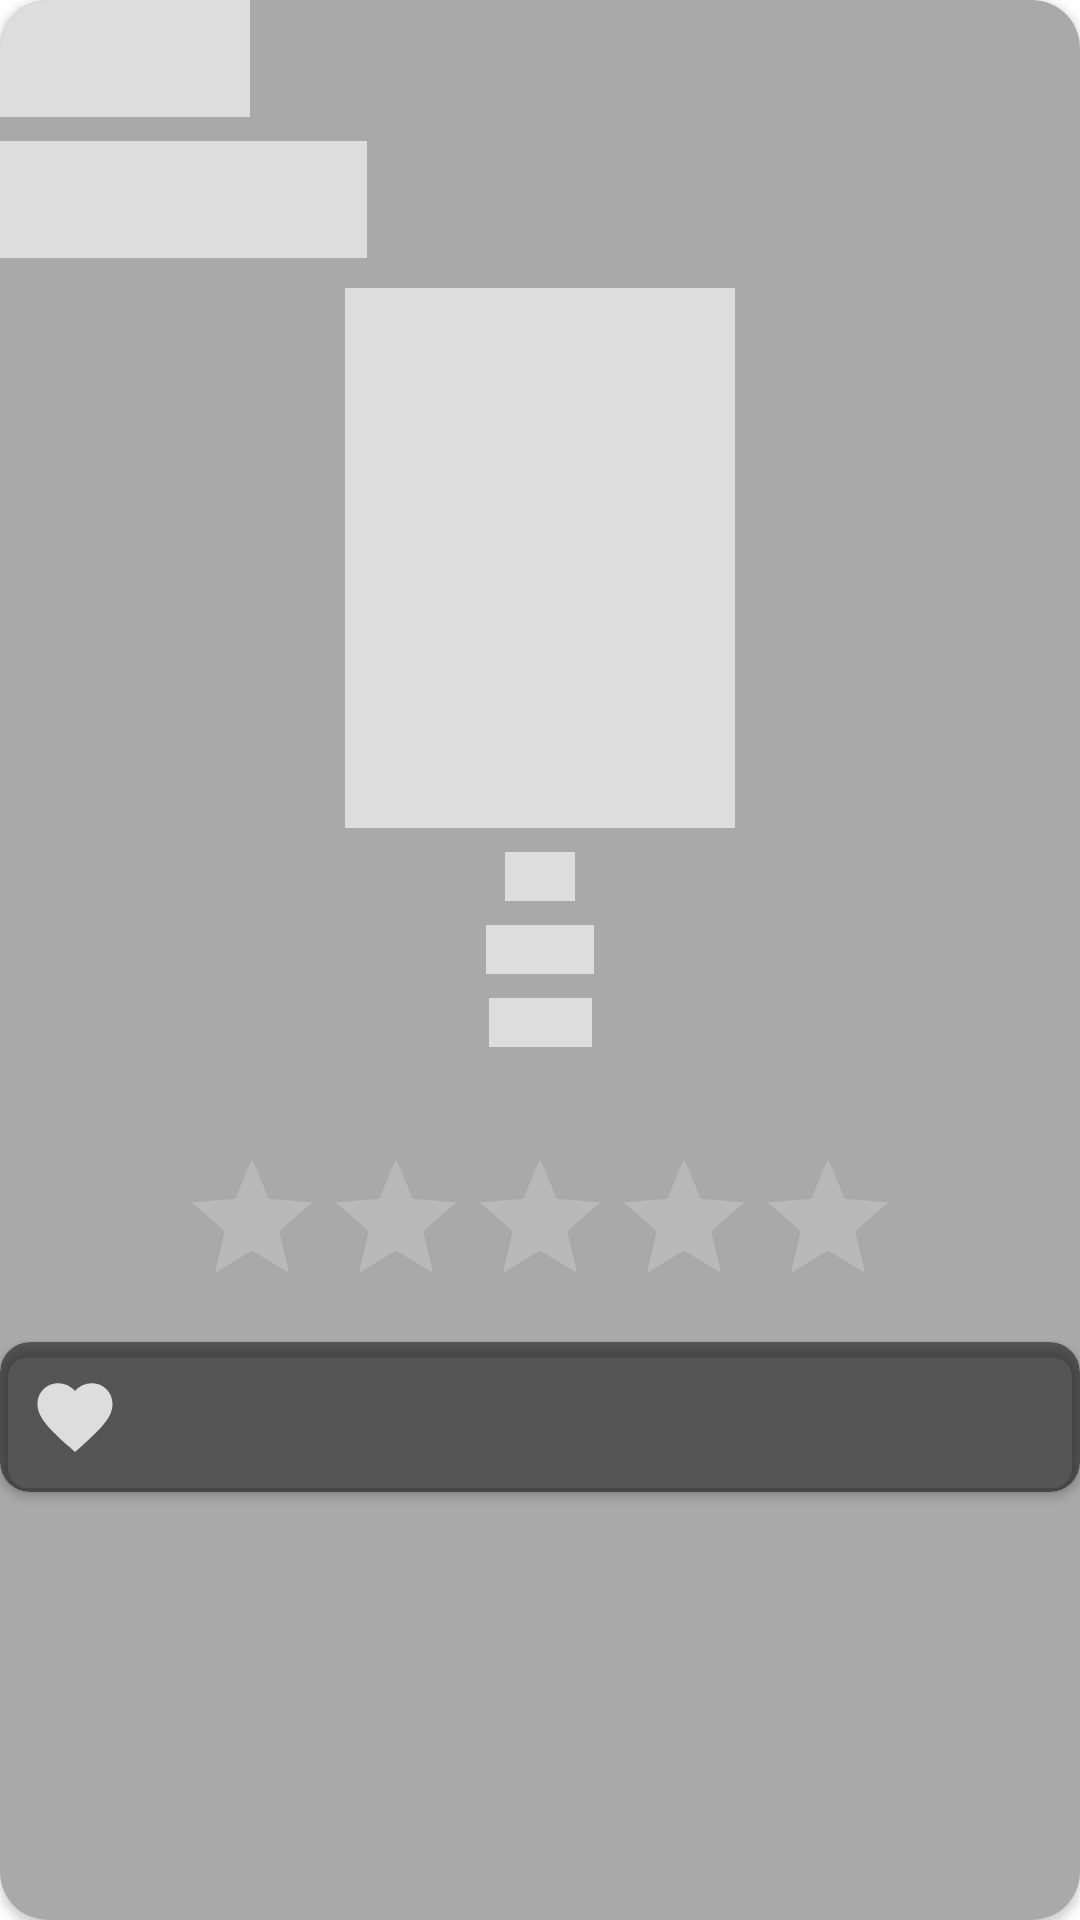

Screen size 1080 x 1920. Icon name, then its center in pixels as (x=x, y=y):
favorite: (x=75, y=1417)
